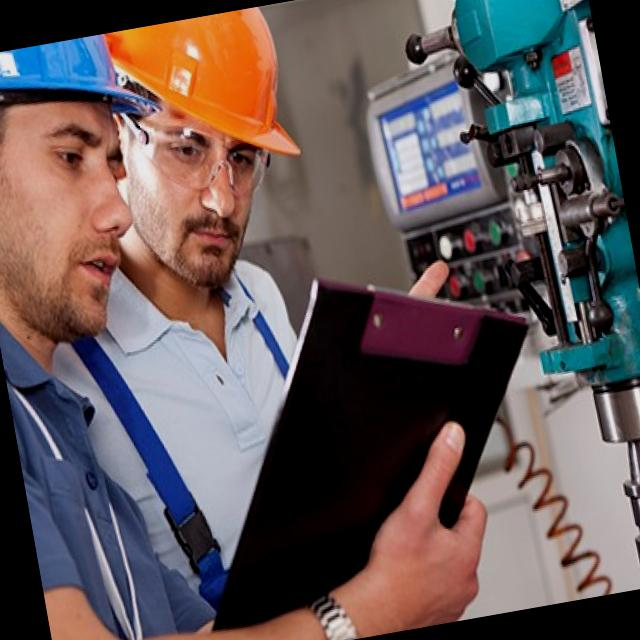goggles: (130, 101, 292, 221)
helmet: (101, 0, 319, 189), (0, 26, 163, 154)
no-goggles: (0, 115, 137, 217)
